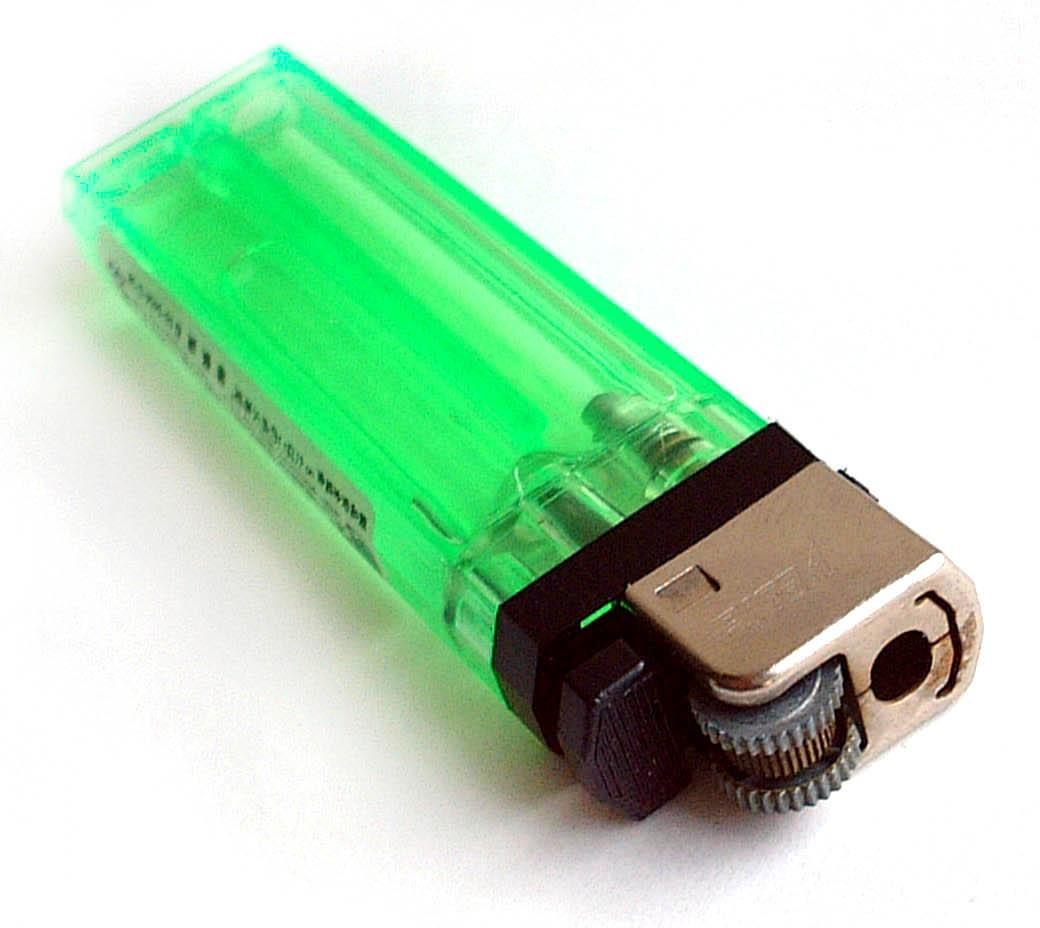lighter: (77, 40, 985, 845)
